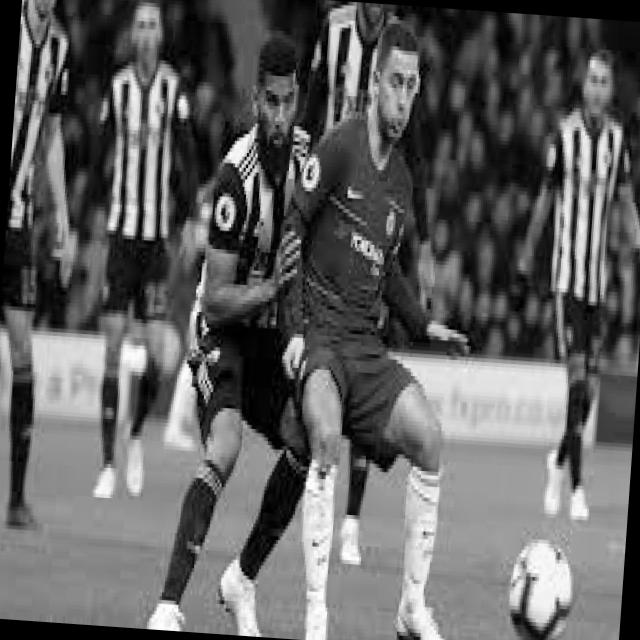football: (502, 525, 585, 640)
